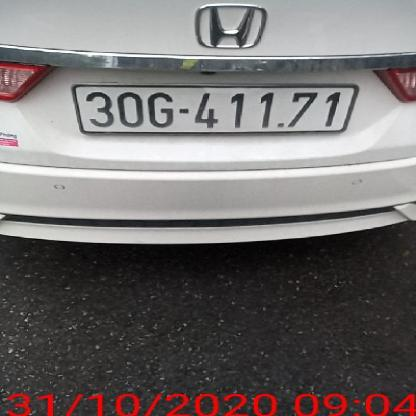biensoxe: (73, 74, 362, 142)
